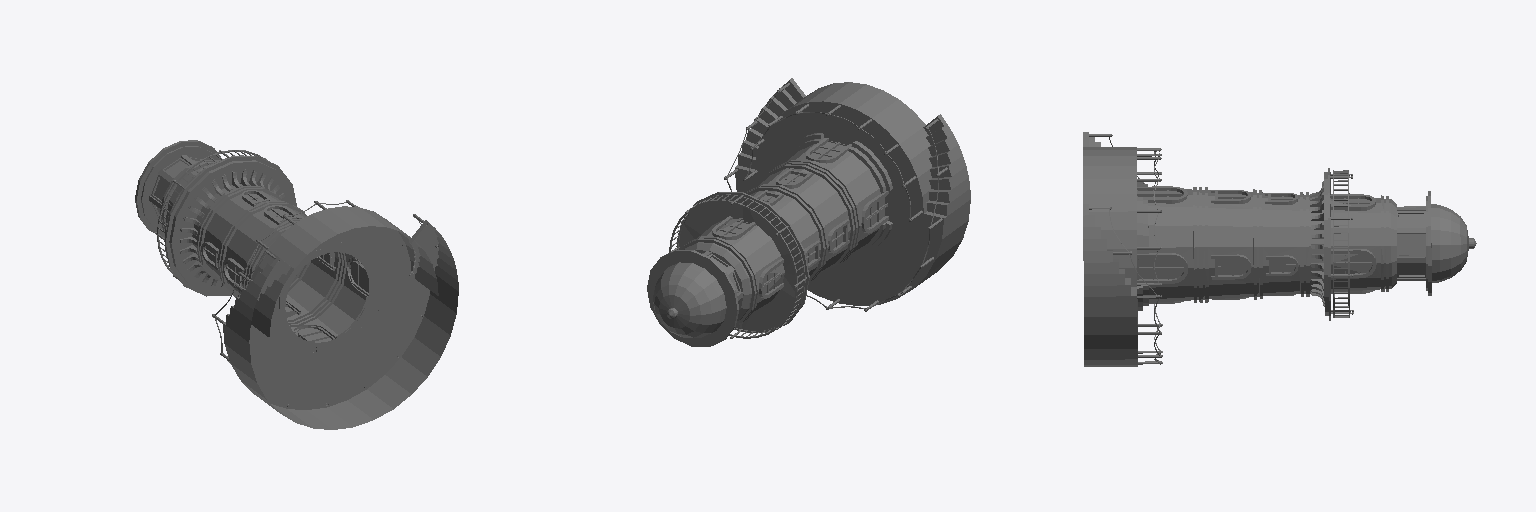
The model's file is lighthouse_v.obj.
3 views of the same model, side by side, from view 1: azimuth 30°, elevation 25°; view 2: azimuth 150°, elevation 25°; view 3: azimuth 270°, elevation 25° (orthographic).
Parts seen in each view (by area): view 1: stair_LOW_Mesh.001, house_LOW_Mesh, polySurface159_Mesh.003, capital_LOW_Mesh.002, polySurface135_Mesh.004, polySurface1_Mesh.006, polySurface178_Mesh.007; view 2: house_LOW_Mesh, stair_LOW_Mesh.001, polySurface159_Mesh.003, polySurface1_Mesh.006, polySurface178_Mesh.007, polySurface135_Mesh.004; view 3: house_LOW_Mesh, stair_LOW_Mesh.001, polySurface159_Mesh.003, polySurface135_Mesh.004, polySurface178_Mesh.007, polySurface1_Mesh.006, capital_LOW_Mesh.002.
Part boxes in pixels (bbox=[...]): stair_LOW_Mesh.001: bbox=[223, 206, 458, 429]; house_LOW_Mesh: bbox=[135, 140, 378, 338]; polySurface159_Mesh.003: bbox=[151, 157, 374, 352]; capital_LOW_Mesh.002: bbox=[179, 169, 284, 286]; polySurface135_Mesh.004: bbox=[154, 160, 368, 342]; polySurface1_Mesh.006: bbox=[155, 150, 269, 280]; polySurface178_Mesh.007: bbox=[212, 200, 438, 406]; house_LOW_Mesh: bbox=[647, 133, 892, 346]; stair_LOW_Mesh.001: bbox=[735, 78, 970, 305]; polySurface159_Mesh.003: bbox=[702, 138, 888, 303]; polySurface1_Mesh.006: bbox=[669, 194, 806, 338]; polySurface178_Mesh.007: bbox=[724, 83, 947, 311]; polySurface135_Mesh.004: bbox=[711, 142, 884, 293]; house_LOW_Mesh: bbox=[1137, 168, 1476, 320]; stair_LOW_Mesh.001: bbox=[1083, 132, 1137, 366]; polySurface159_Mesh.003: bbox=[1137, 186, 1425, 303]; polySurface135_Mesh.004: bbox=[1138, 191, 1424, 278]; polySurface178_Mesh.007: bbox=[1089, 134, 1162, 364]; polySurface1_Mesh.006: bbox=[1330, 170, 1353, 317]; capital_LOW_Mesh.002: bbox=[1310, 181, 1324, 306].
Size of the model in its own units: 0.2461 by 0.2242 by 0.4005.